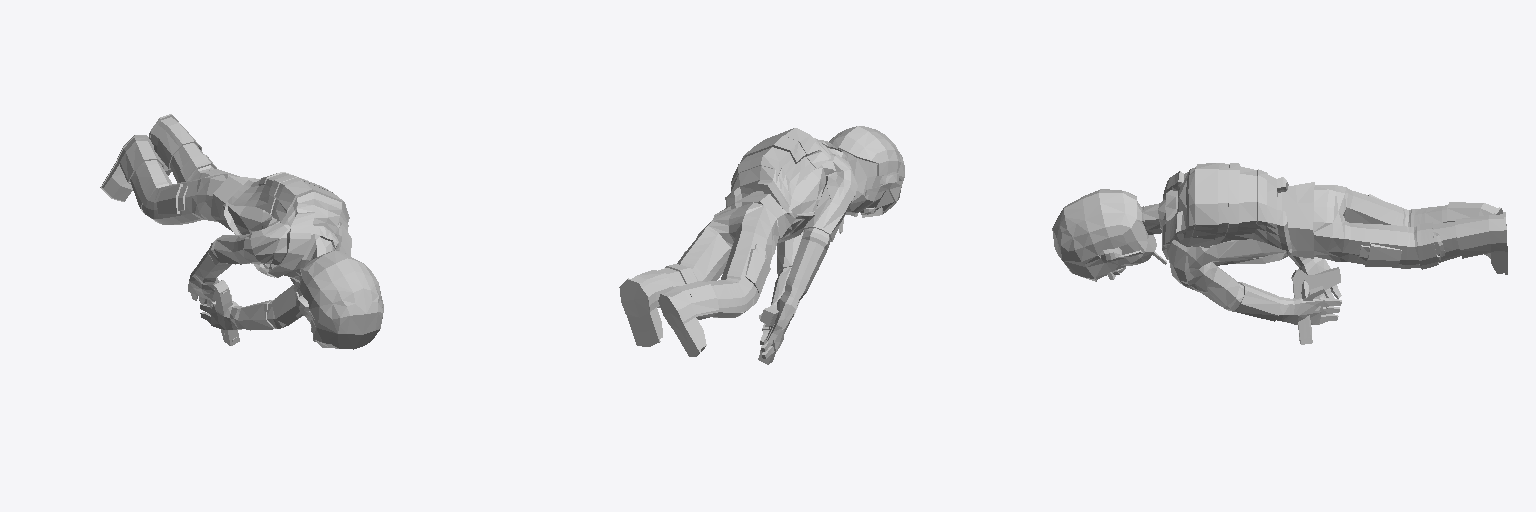
Rendered from frame_0049.obj.
3 views of the same model, side by side, from view 1: azimuth 30°, elevation 25°; view 2: azimuth 150°, elevation 25°; view 3: azimuth 270°, elevation 25° (orthographic).
Visible parts, largest first — view 1: Body, Gun; view 2: Body; view 3: Body, Gun.
Part boxes in pixels (bbox=[...]): Body: bbox=[100, 114, 383, 349]; Gun: bbox=[192, 270, 239, 345]; Body: bbox=[619, 126, 904, 358]; Body: bbox=[1052, 163, 1507, 324]; Gun: bbox=[1291, 267, 1340, 344].
Size of the model in its own units: 1.13 by 1.9 by 4.16.